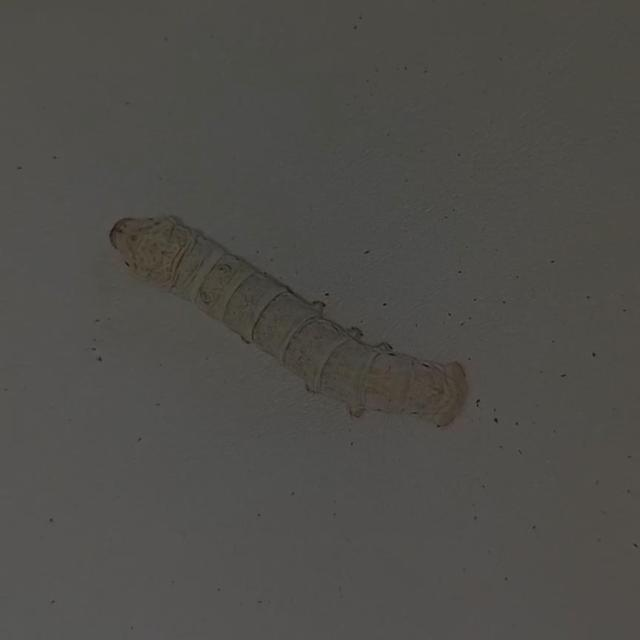Healthy: (73, 174, 519, 474)
